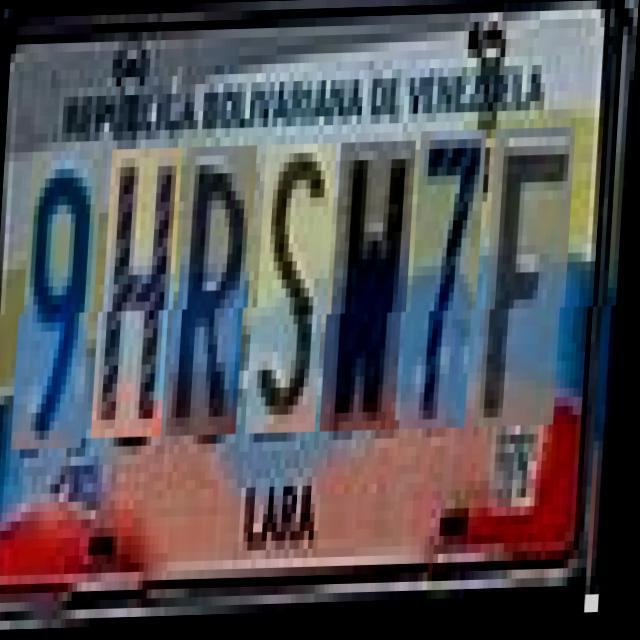7: (409, 132, 488, 432)
9: (21, 150, 105, 450)
F: (484, 131, 577, 430)
H: (101, 149, 184, 439)
R: (175, 147, 258, 437)
S: (255, 146, 338, 436)
W: (330, 144, 418, 434)
